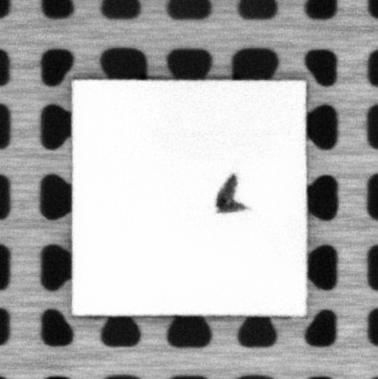DIE_INK: (214, 172, 249, 214)
